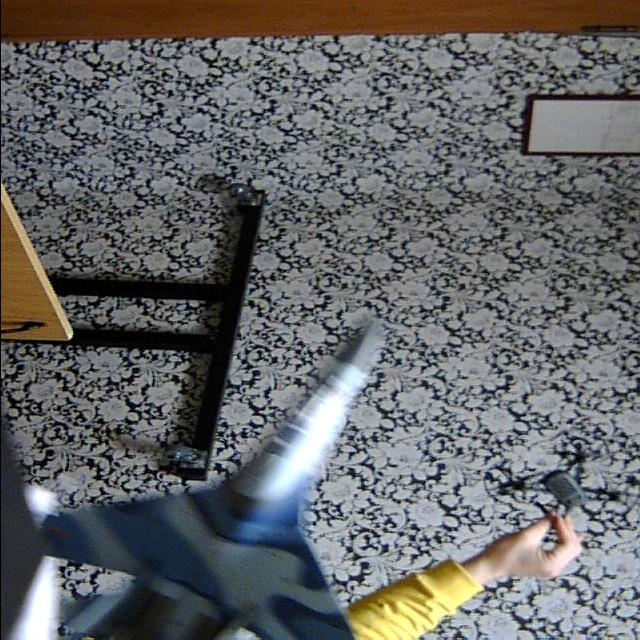drone: (481, 427, 632, 584)
